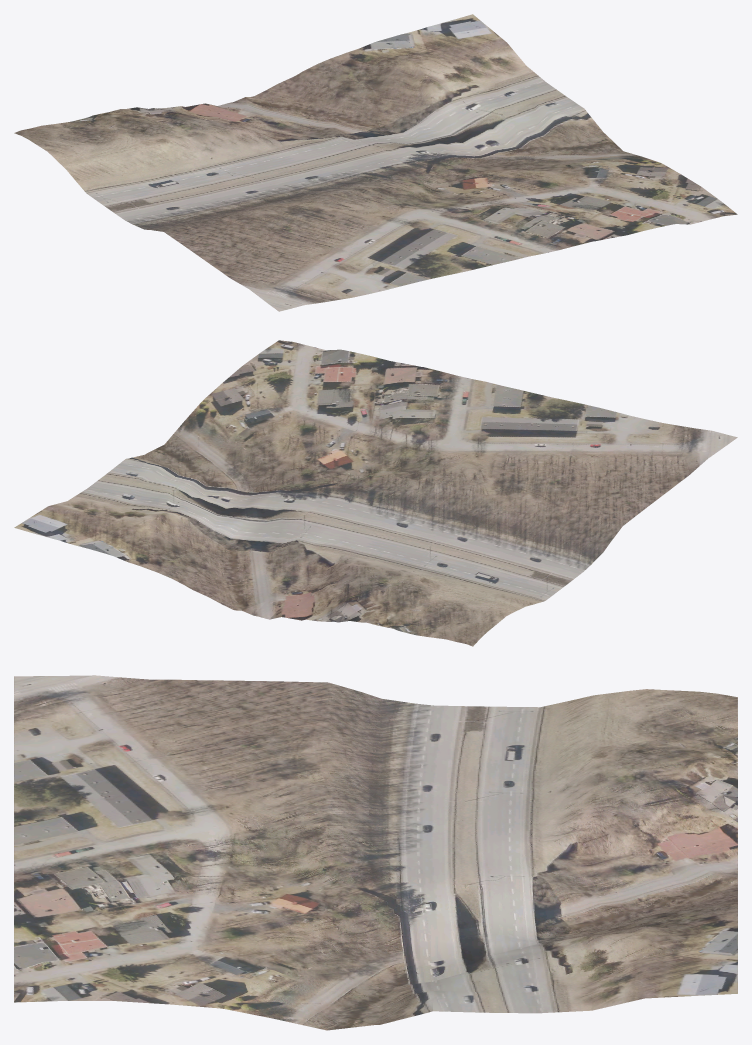
The model's file is CM_Terrain_24492097_6817746.fbx.
The picture shows the model from 3 angles, top to bottom: view 1: azimuth 30°, elevation 25°; view 2: azimuth 150°, elevation 25°; view 3: azimuth 270°, elevation 25°; orthographic projection. The views are drawn at different scales.
Parts seen in each view (by area): view 1: CM_Terrain_24492097_6817746_LOD0; view 2: CM_Terrain_24492097_6817746_LOD0; view 3: CM_Terrain_24492097_6817746_LOD0.
Boxes of the visible parts, bbox=[...] form: CM_Terrain_24492097_6817746_LOD0: bbox=[14, 14, 737, 311]; CM_Terrain_24492097_6817746_LOD0: bbox=[14, 340, 737, 646]; CM_Terrain_24492097_6817746_LOD0: bbox=[14, 675, 737, 1030].
Size of what is drawn, in the model's own units: 205 by 16.98 by 205.
